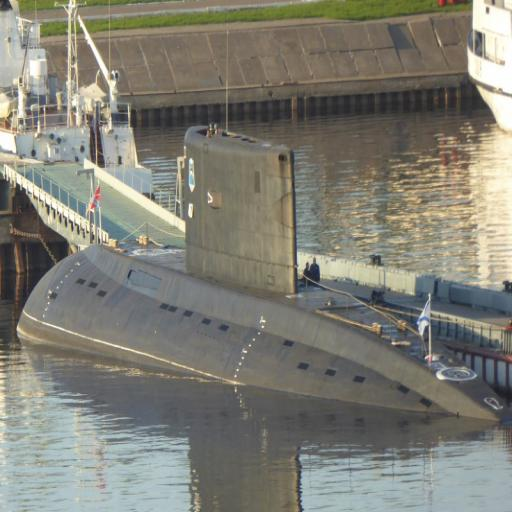submarine: (18, 122, 505, 425)
